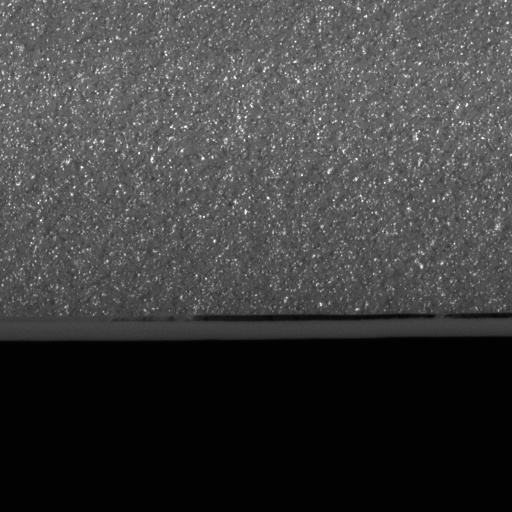jiaofeng: (195, 312, 511, 334)
